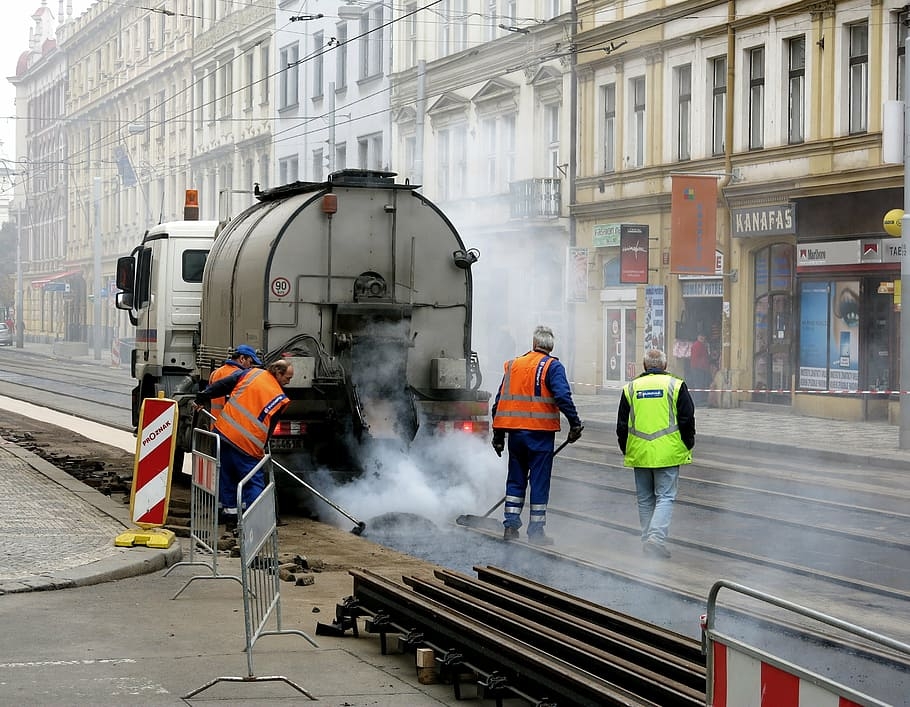Person: (489, 324, 585, 549), (201, 364, 313, 548), (612, 351, 701, 561), (620, 353, 695, 465), (207, 345, 262, 432), (691, 332, 712, 407)
Vest: (218, 360, 294, 460), (495, 326, 563, 435), (210, 347, 258, 424)
